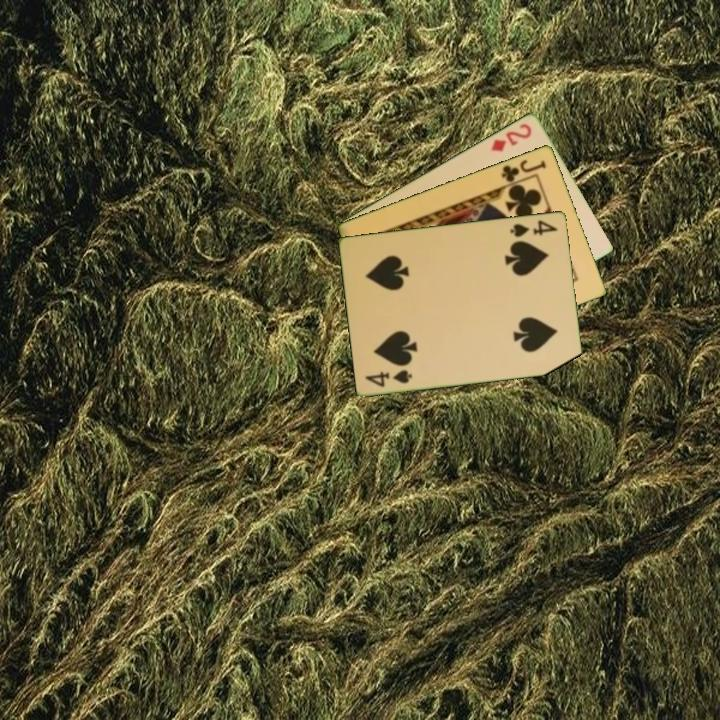2d: (488, 119, 535, 154)
4s: (507, 216, 561, 240), (362, 366, 415, 390)
Jc: (498, 156, 549, 185)
